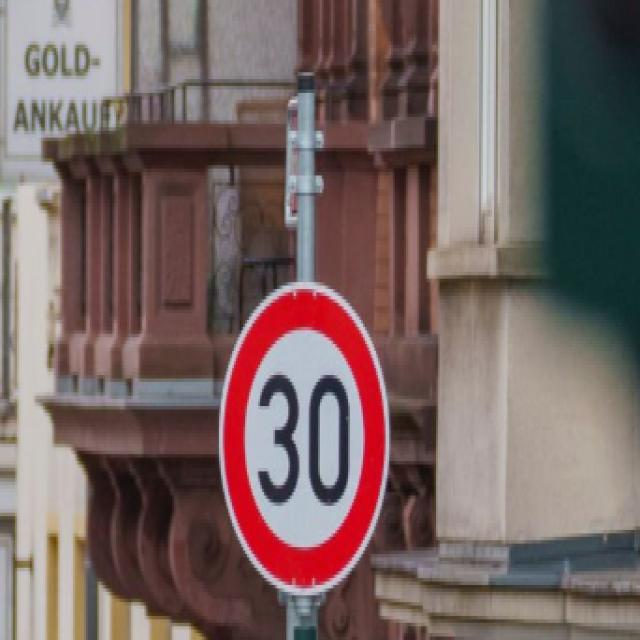Speed limit 30: (218, 276, 392, 600)
